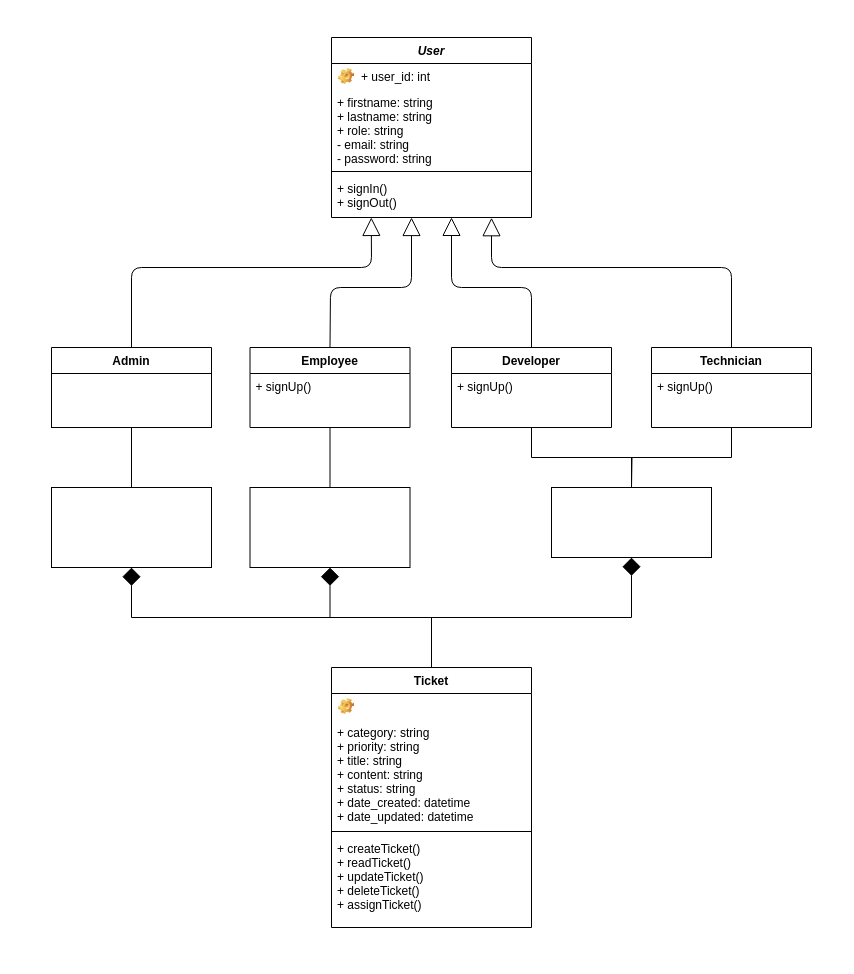
Image size: 854x974. Some labels were removed from this diagram. The centre of each missing label's shape, as x and y in pixels:
"- ticket_id: int" goes at (431,706).
"<<Interface>> Ticket Creator + createTicket() + modifyTicket()" goes at (329,527).
"<<Interface>> Ticket Handler + updateTicket()" goes at (631,522).
"<<Interface>> Ticket Manager + assignTicket() + deleteTicket()" goes at (131,527).
